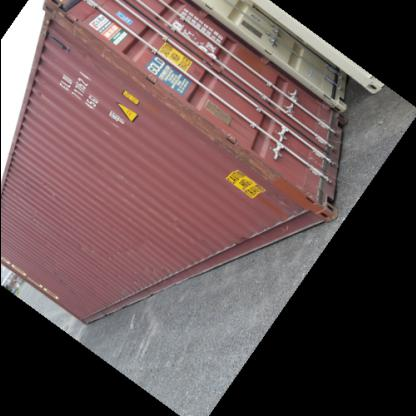Damage: (54, 16, 181, 116), (166, 111, 273, 184)
